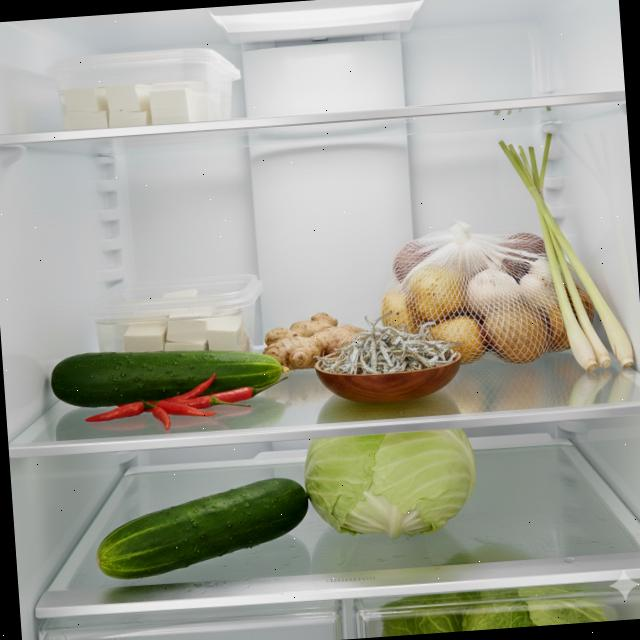anchovies: (312, 306, 460, 379)
cabbage: (302, 428, 480, 546)
chili: (82, 368, 292, 436)
cucumber: (90, 474, 314, 582), (49, 338, 293, 410)
ginger: (260, 309, 370, 373)
lemongrass: (497, 128, 635, 376)
tofu: (119, 284, 246, 360)
